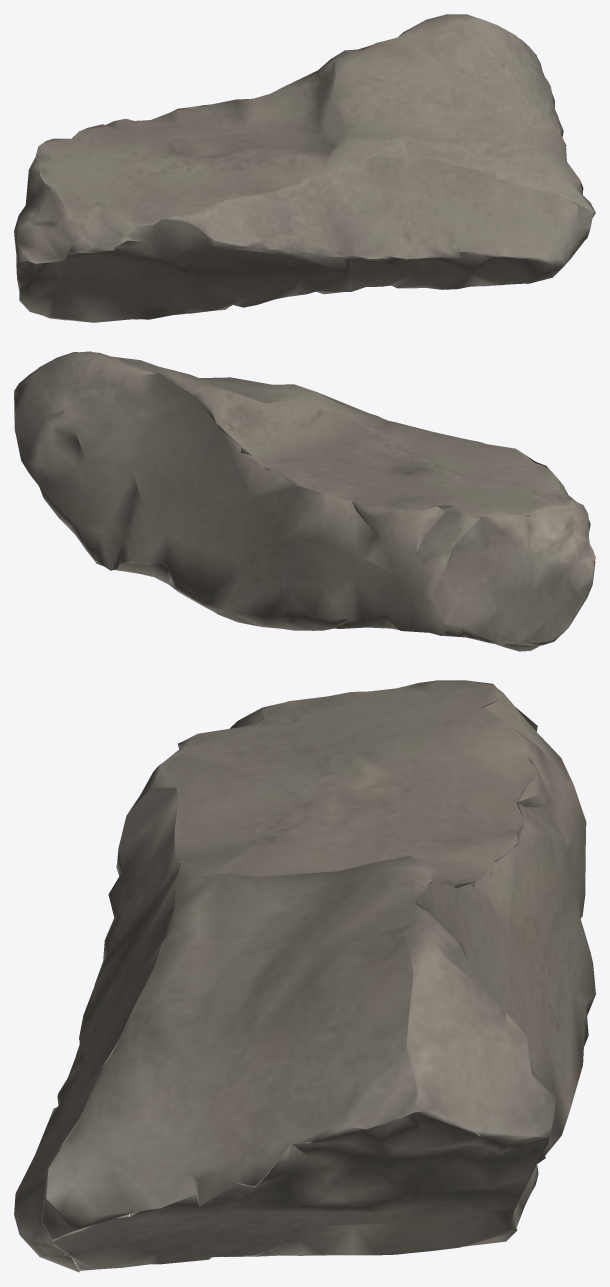
Rendered from rock_a.glb.
The picture shows the model from 3 angles, top to bottom: view 1: azimuth 30°, elevation 25°; view 2: azimuth 150°, elevation 25°; view 3: azimuth 270°, elevation 25°; orthographic projection. The views are drawn at different scales.
Parts seen in each view (by area): view 1: rock_a; view 2: rock_a; view 3: rock_a.
Part boxes in pixels (bbox=[...]): rock_a: bbox=[14, 14, 595, 322]; rock_a: bbox=[14, 351, 595, 651]; rock_a: bbox=[14, 680, 595, 1272].
Bounding box in the file's own units: 1.94 × 0.6867 × 1.02.
Materials: 1 (1 with a texture image).
